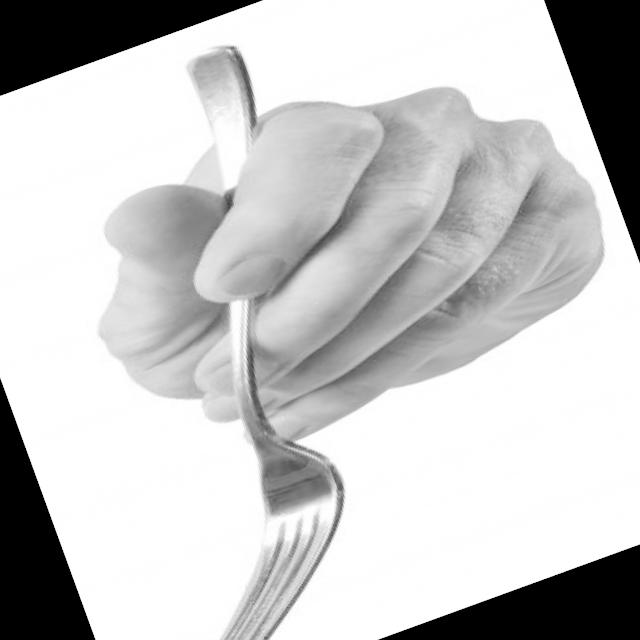fork: (0, 38, 442, 640)
